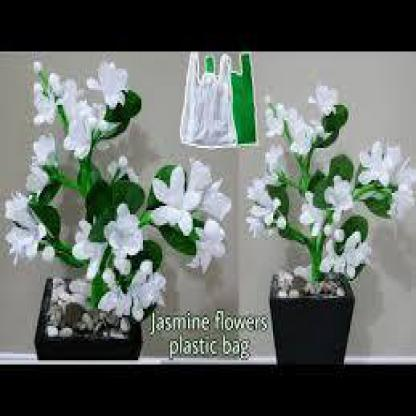Melati: (78, 207, 173, 323), (142, 158, 237, 261), (303, 177, 388, 284), (261, 74, 369, 155), (30, 63, 136, 145), (6, 132, 60, 284), (361, 132, 415, 218), (249, 145, 297, 237)
